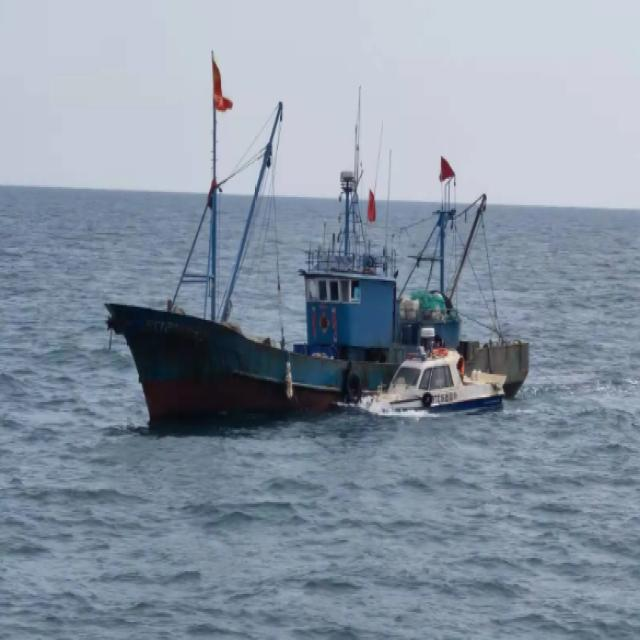fishing boat: (99, 100, 530, 423)
houseboat: (345, 332, 511, 420)
